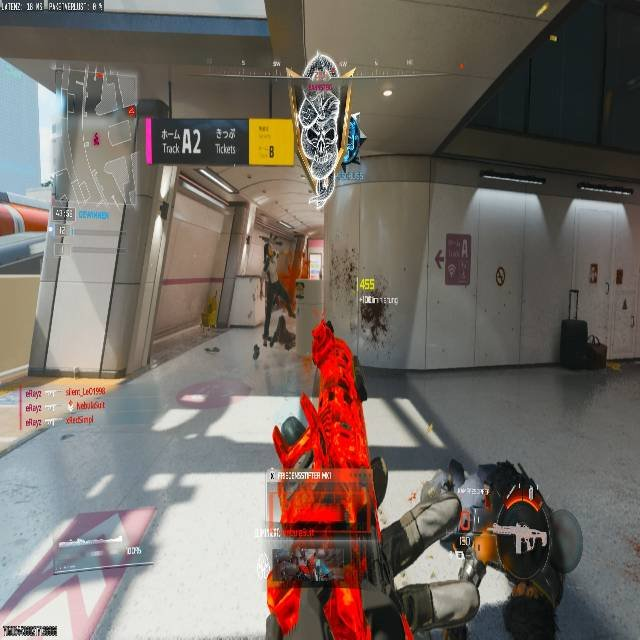player: (263, 309, 385, 638), (360, 297, 387, 346)
